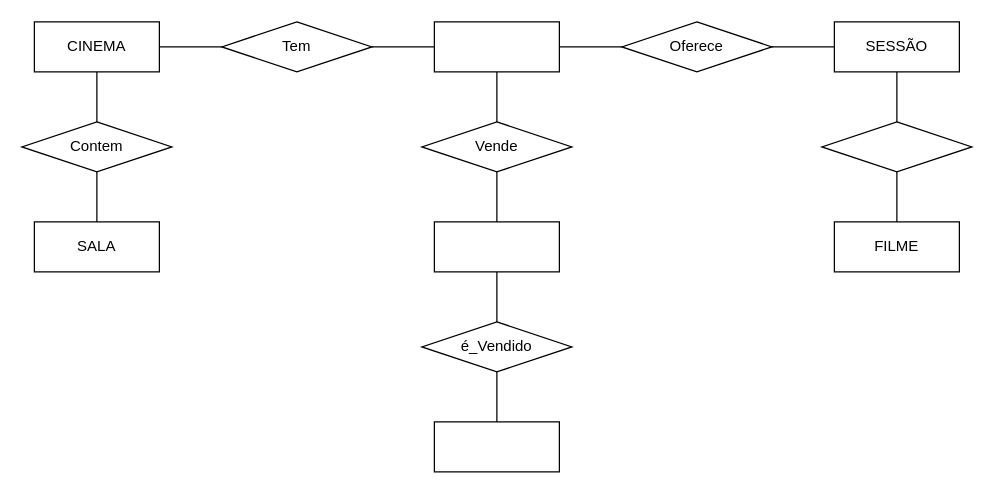
Some shapes in this 994 by 494 pixel diagram are drawn without their labels. The shapes that lost their labels are listed below. From the top down, each one's centre as x and y in pixels, then its label:
At [496,46]: "BILHETERIA".
At [896,146]: "Reproduz".
At [496,246]: "BILHETE".
At [496,446]: "CLIENTE".
